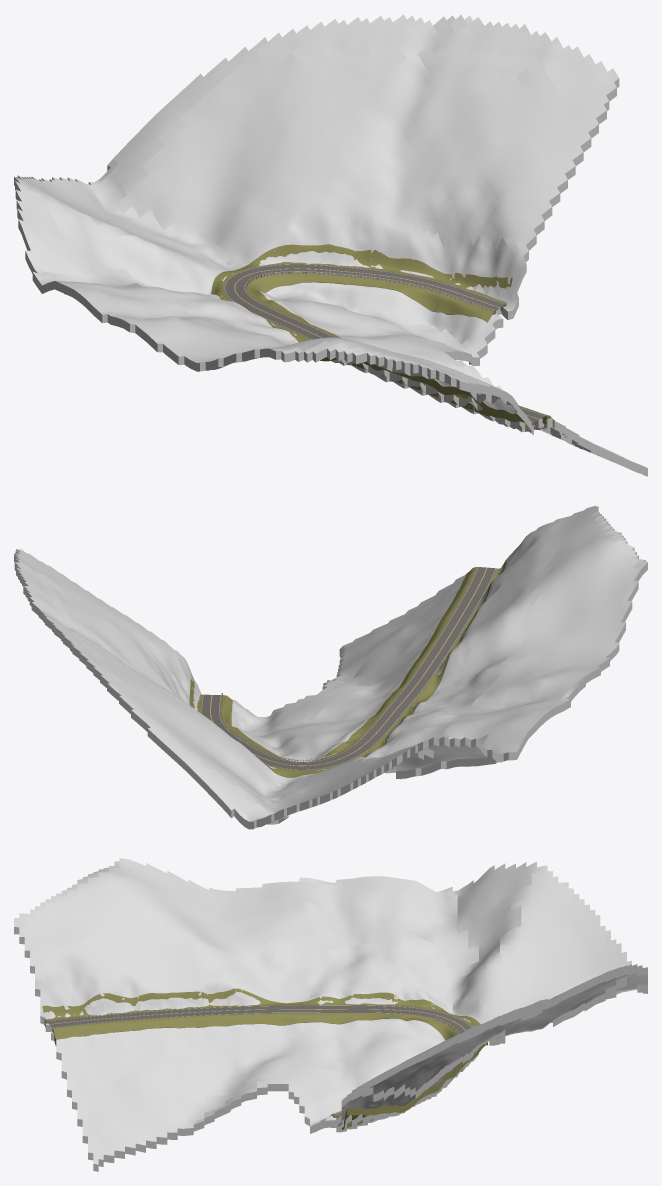
File: conz_177.glb
3 renders of one model, top to bottom at view 1: azimuth 30°, elevation 25°; view 2: azimuth 150°, elevation 25°; view 3: azimuth 270°, elevation 25°, orthographic. The views are drawn at different scales.
Visible parts, largest first — view 1: terrain177, verge177R, road177, verge177L; view 2: terrain177, road177, verge177L, verge177R, paint_white177; view 3: terrain177, verge177R, verge177L, road177.
Part boxes in pixels (left/top/right/bottom): terrain177: left=14, top=14, right=647, bottom=476; verge177R: left=211, top=244, right=532, bottom=432; road177: left=224, top=264, right=545, bottom=422; verge177L: left=245, top=273, right=554, bottom=428; terrain177: left=14, top=505, right=647, bottom=829; road177: left=201, top=567, right=496, bottom=769; verge177L: left=220, top=567, right=477, bottom=761; verge177R: left=189, top=558, right=507, bottom=777; paint_white177: left=201, top=567, right=495, bottom=769; terrain177: left=14, top=858, right=647, bottom=1171; verge177R: left=42, top=988, right=487, bottom=1129; verge177L: left=52, top=1013, right=457, bottom=1119; road177: left=47, top=1005, right=471, bottom=1118.
Bounding box in the file's own units: 206 × 85.96 × 240.
